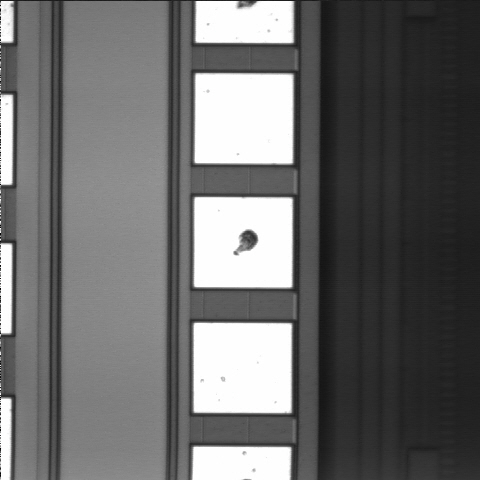pad: (195, 73, 293, 164), (194, 197, 292, 288), (194, 323, 292, 413)
